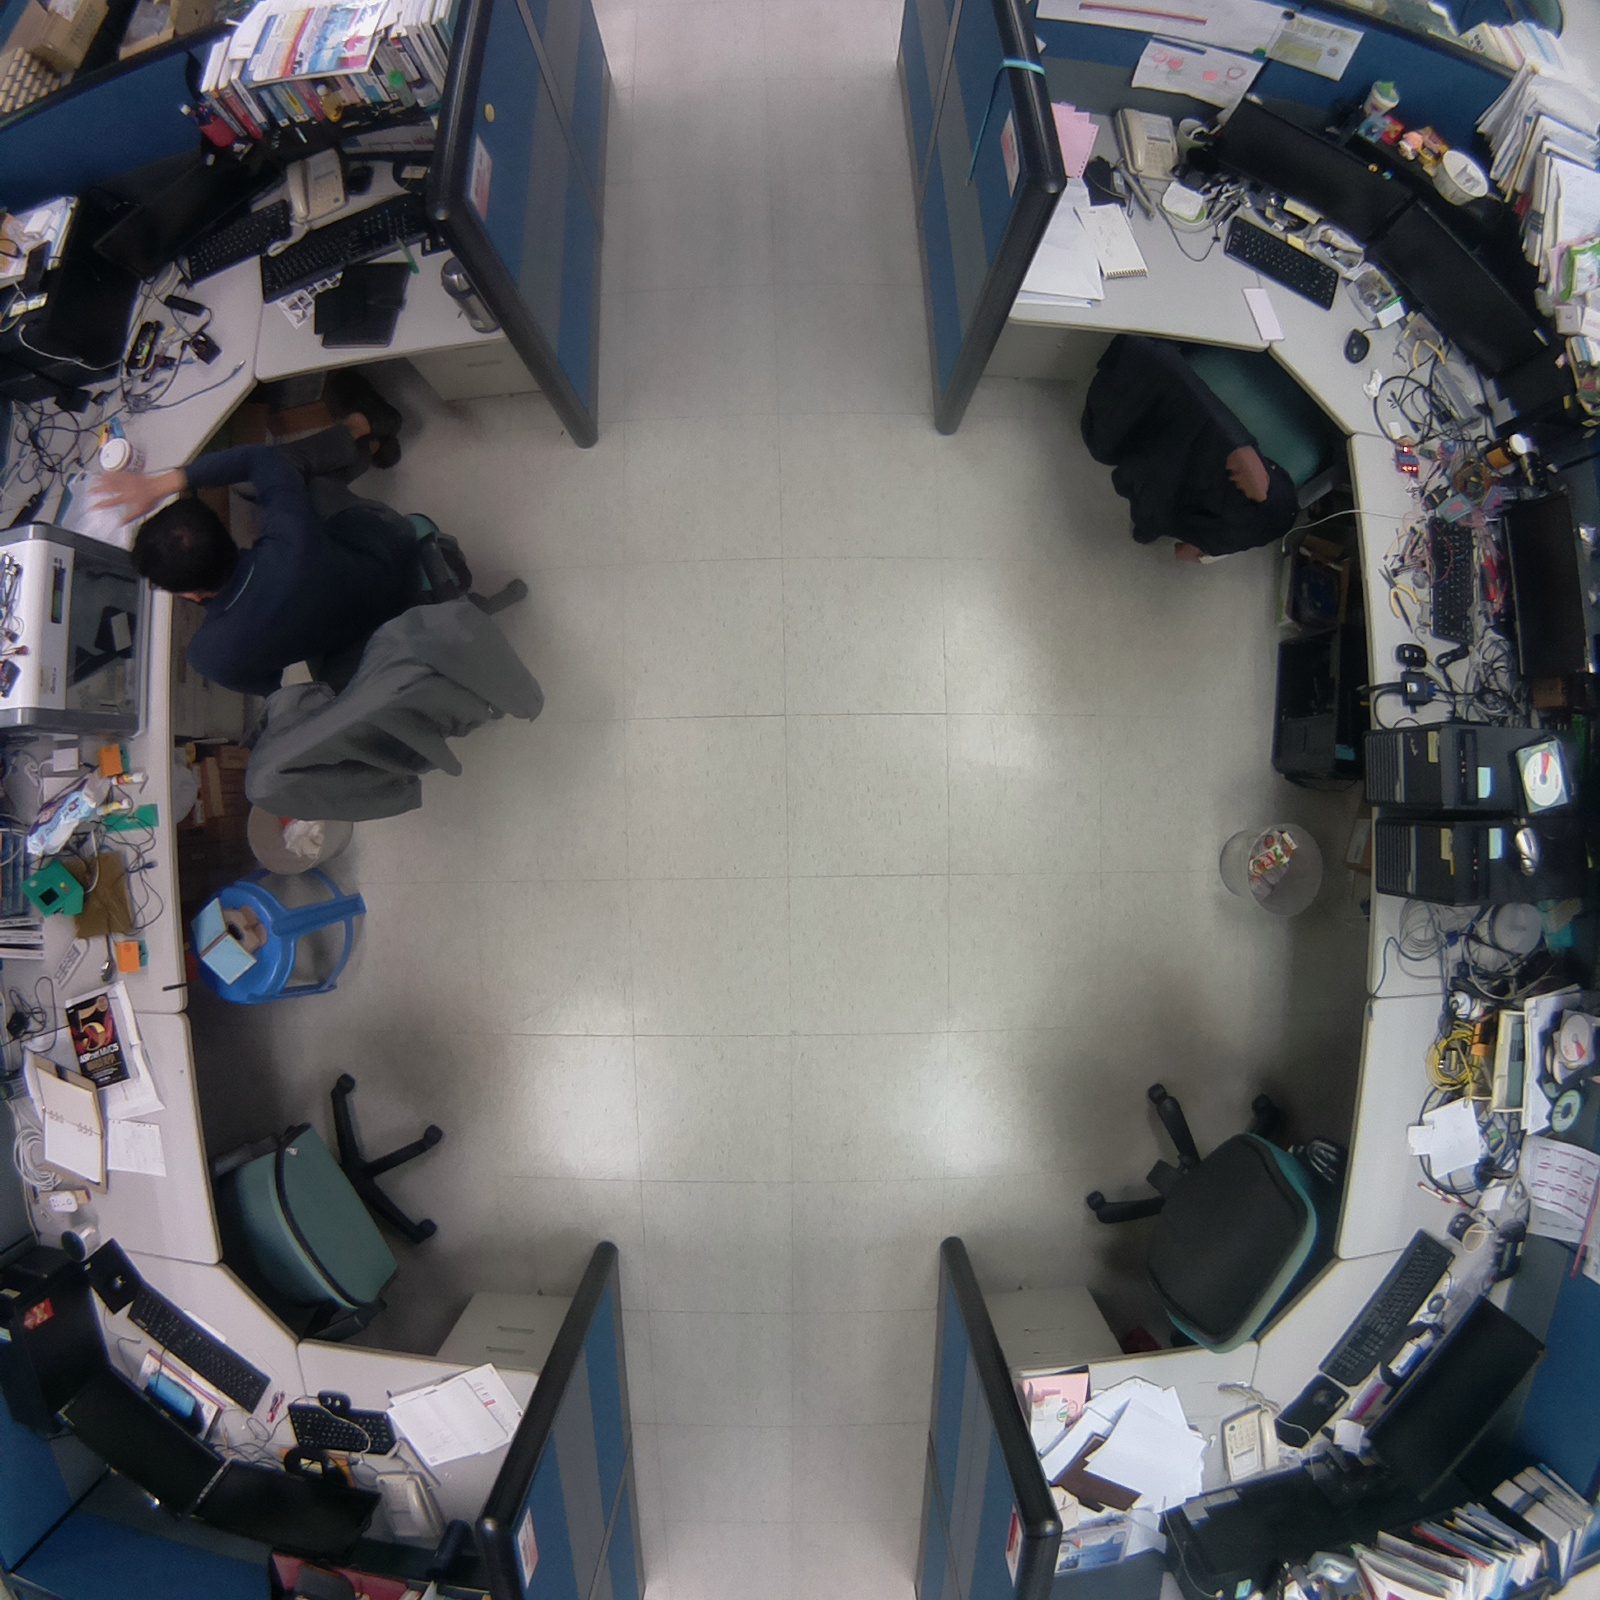chair: (1068, 1068, 1350, 1355), (206, 1058, 476, 1332), (1076, 314, 1350, 565)
head: (119, 491, 251, 614)
sitting: (113, 363, 558, 834)
